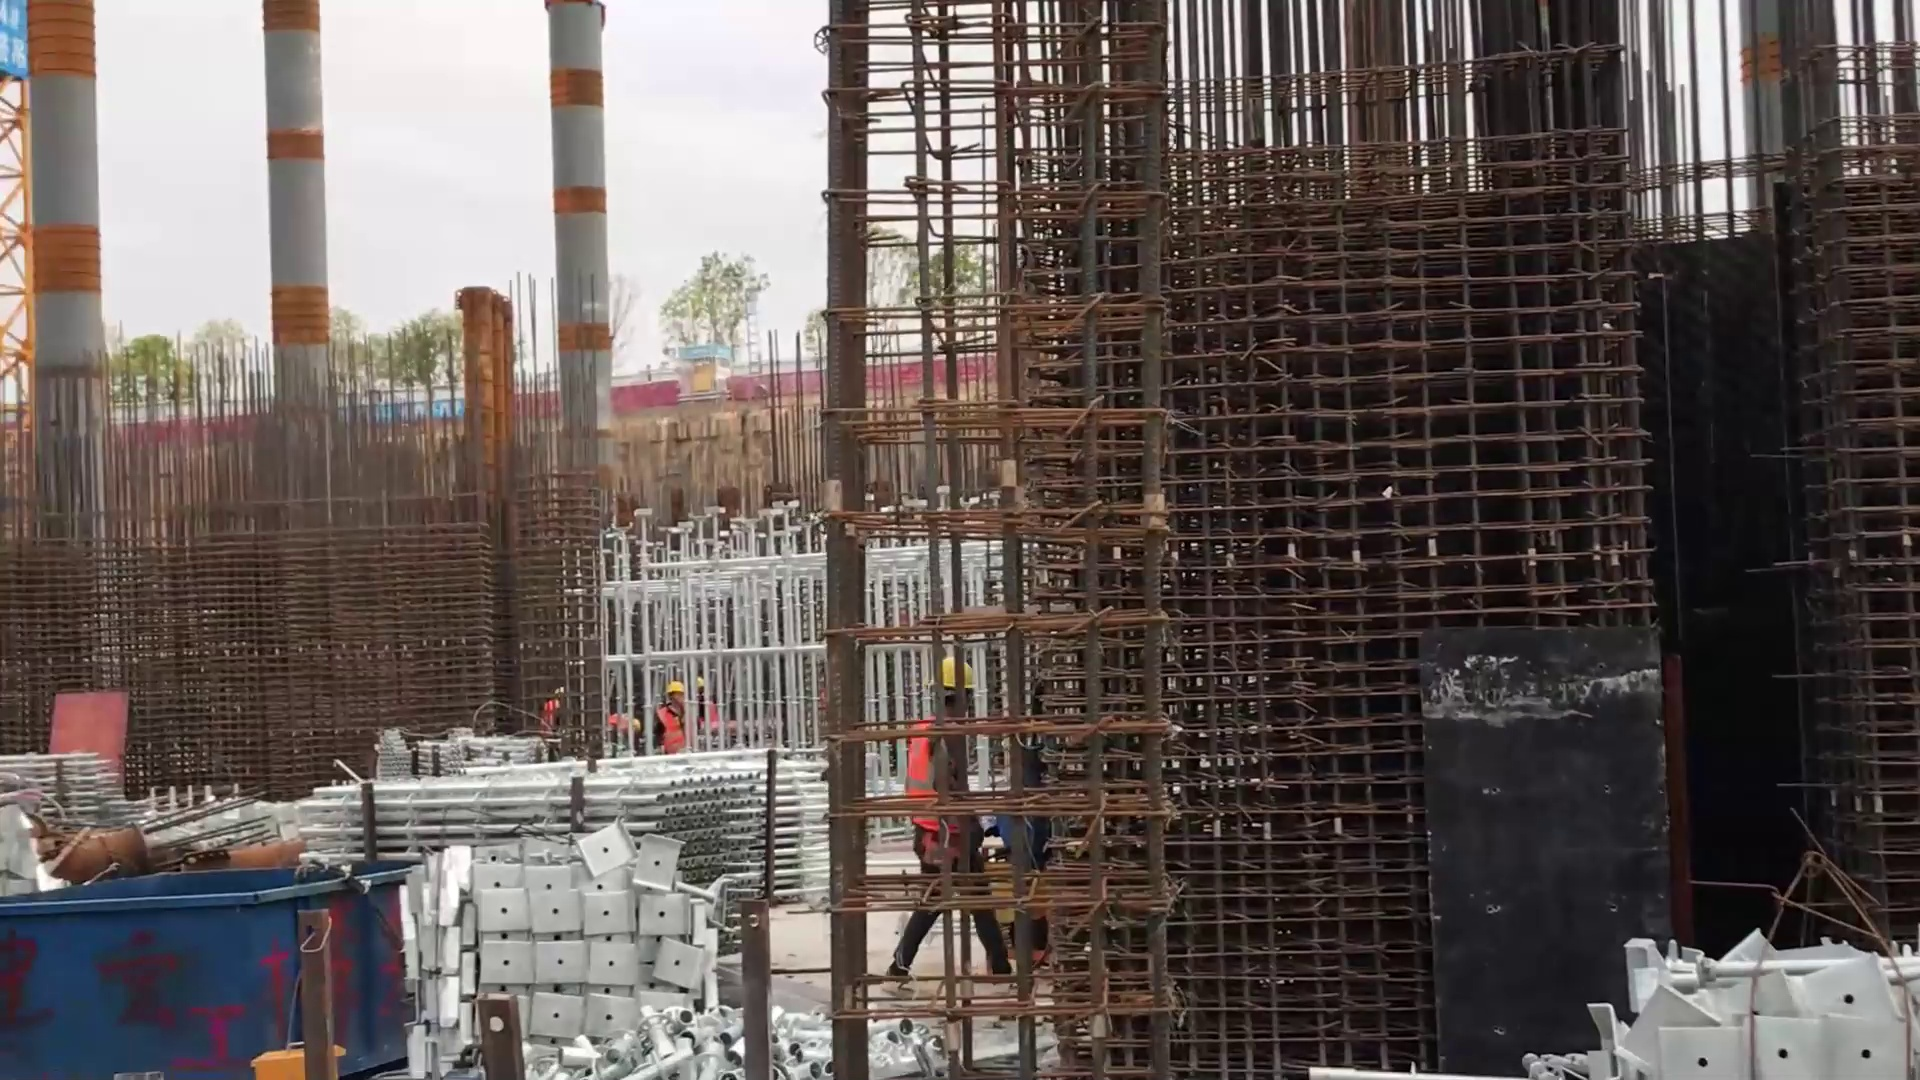ebox: (233, 1033, 357, 1080)
hopper: (1, 843, 425, 1077)
scaffold: (301, 731, 829, 924), (1, 742, 153, 833)
